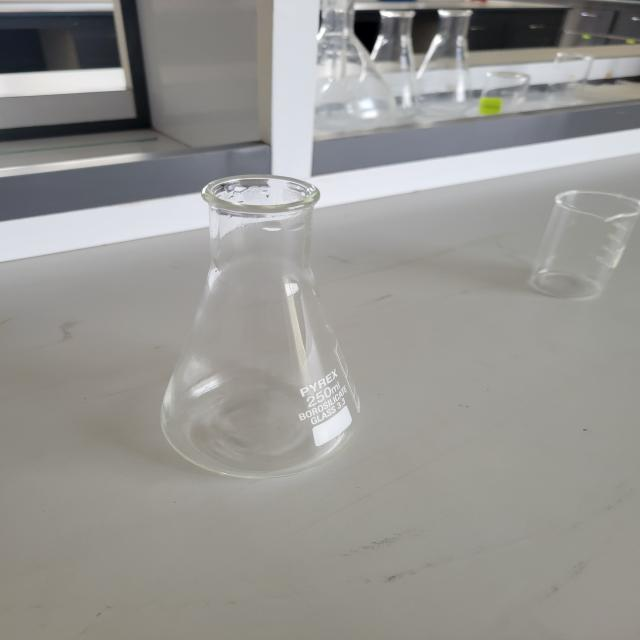Beaker: (510, 148, 640, 328)
Conical_Flask: (115, 140, 392, 481)
